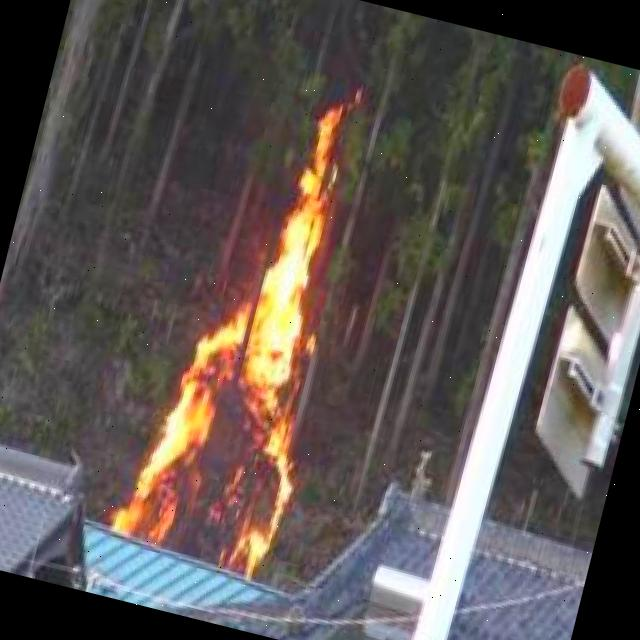fire: (114, 93, 383, 587)
